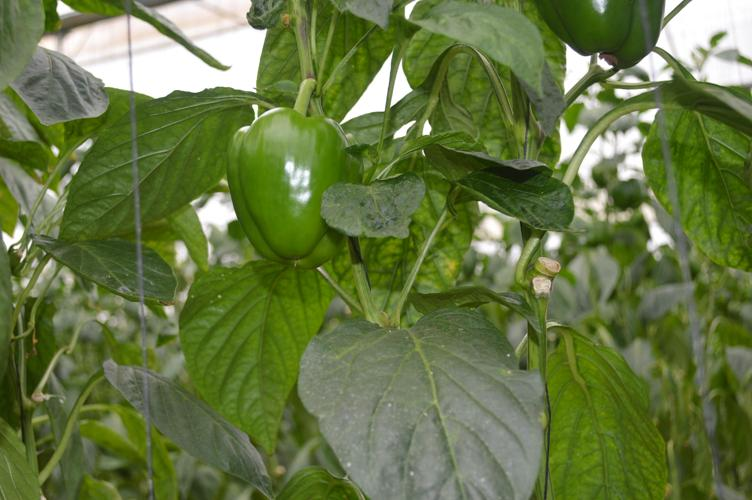BellPepper: (220, 108, 357, 268)
